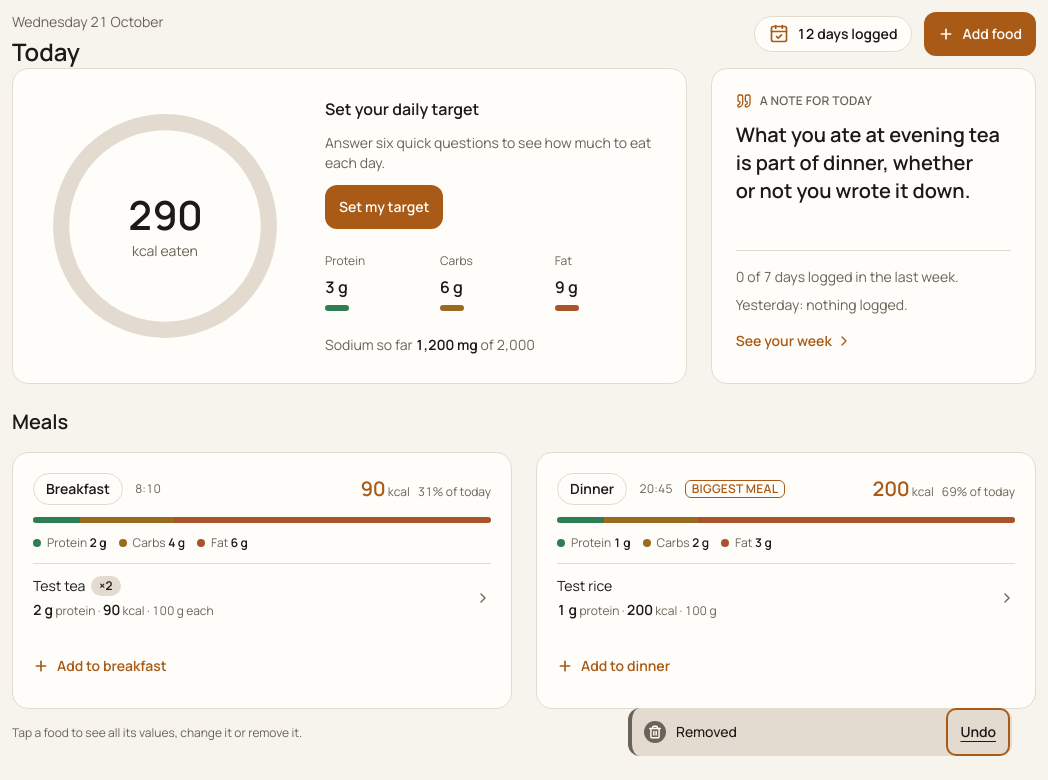
it: changing and removing foods › keeps Undo and explains when the food cannot be put back
Click the button "Undo".
click(978, 732)  # box [948, 710, 1008, 754]
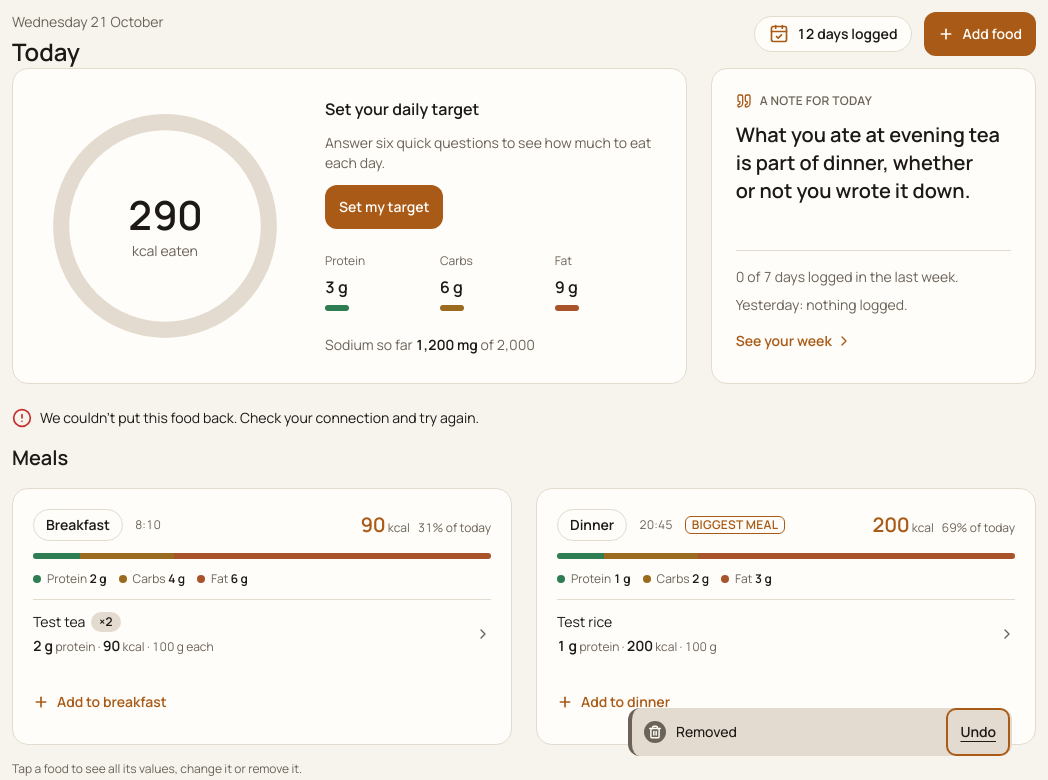
Now the message shows "We couldn't put this food back.", box [40, 408, 479, 427]
